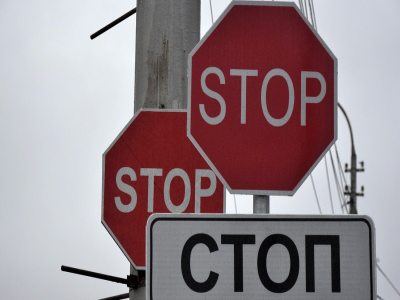stop: (200, 12, 329, 173), (109, 123, 217, 249)
